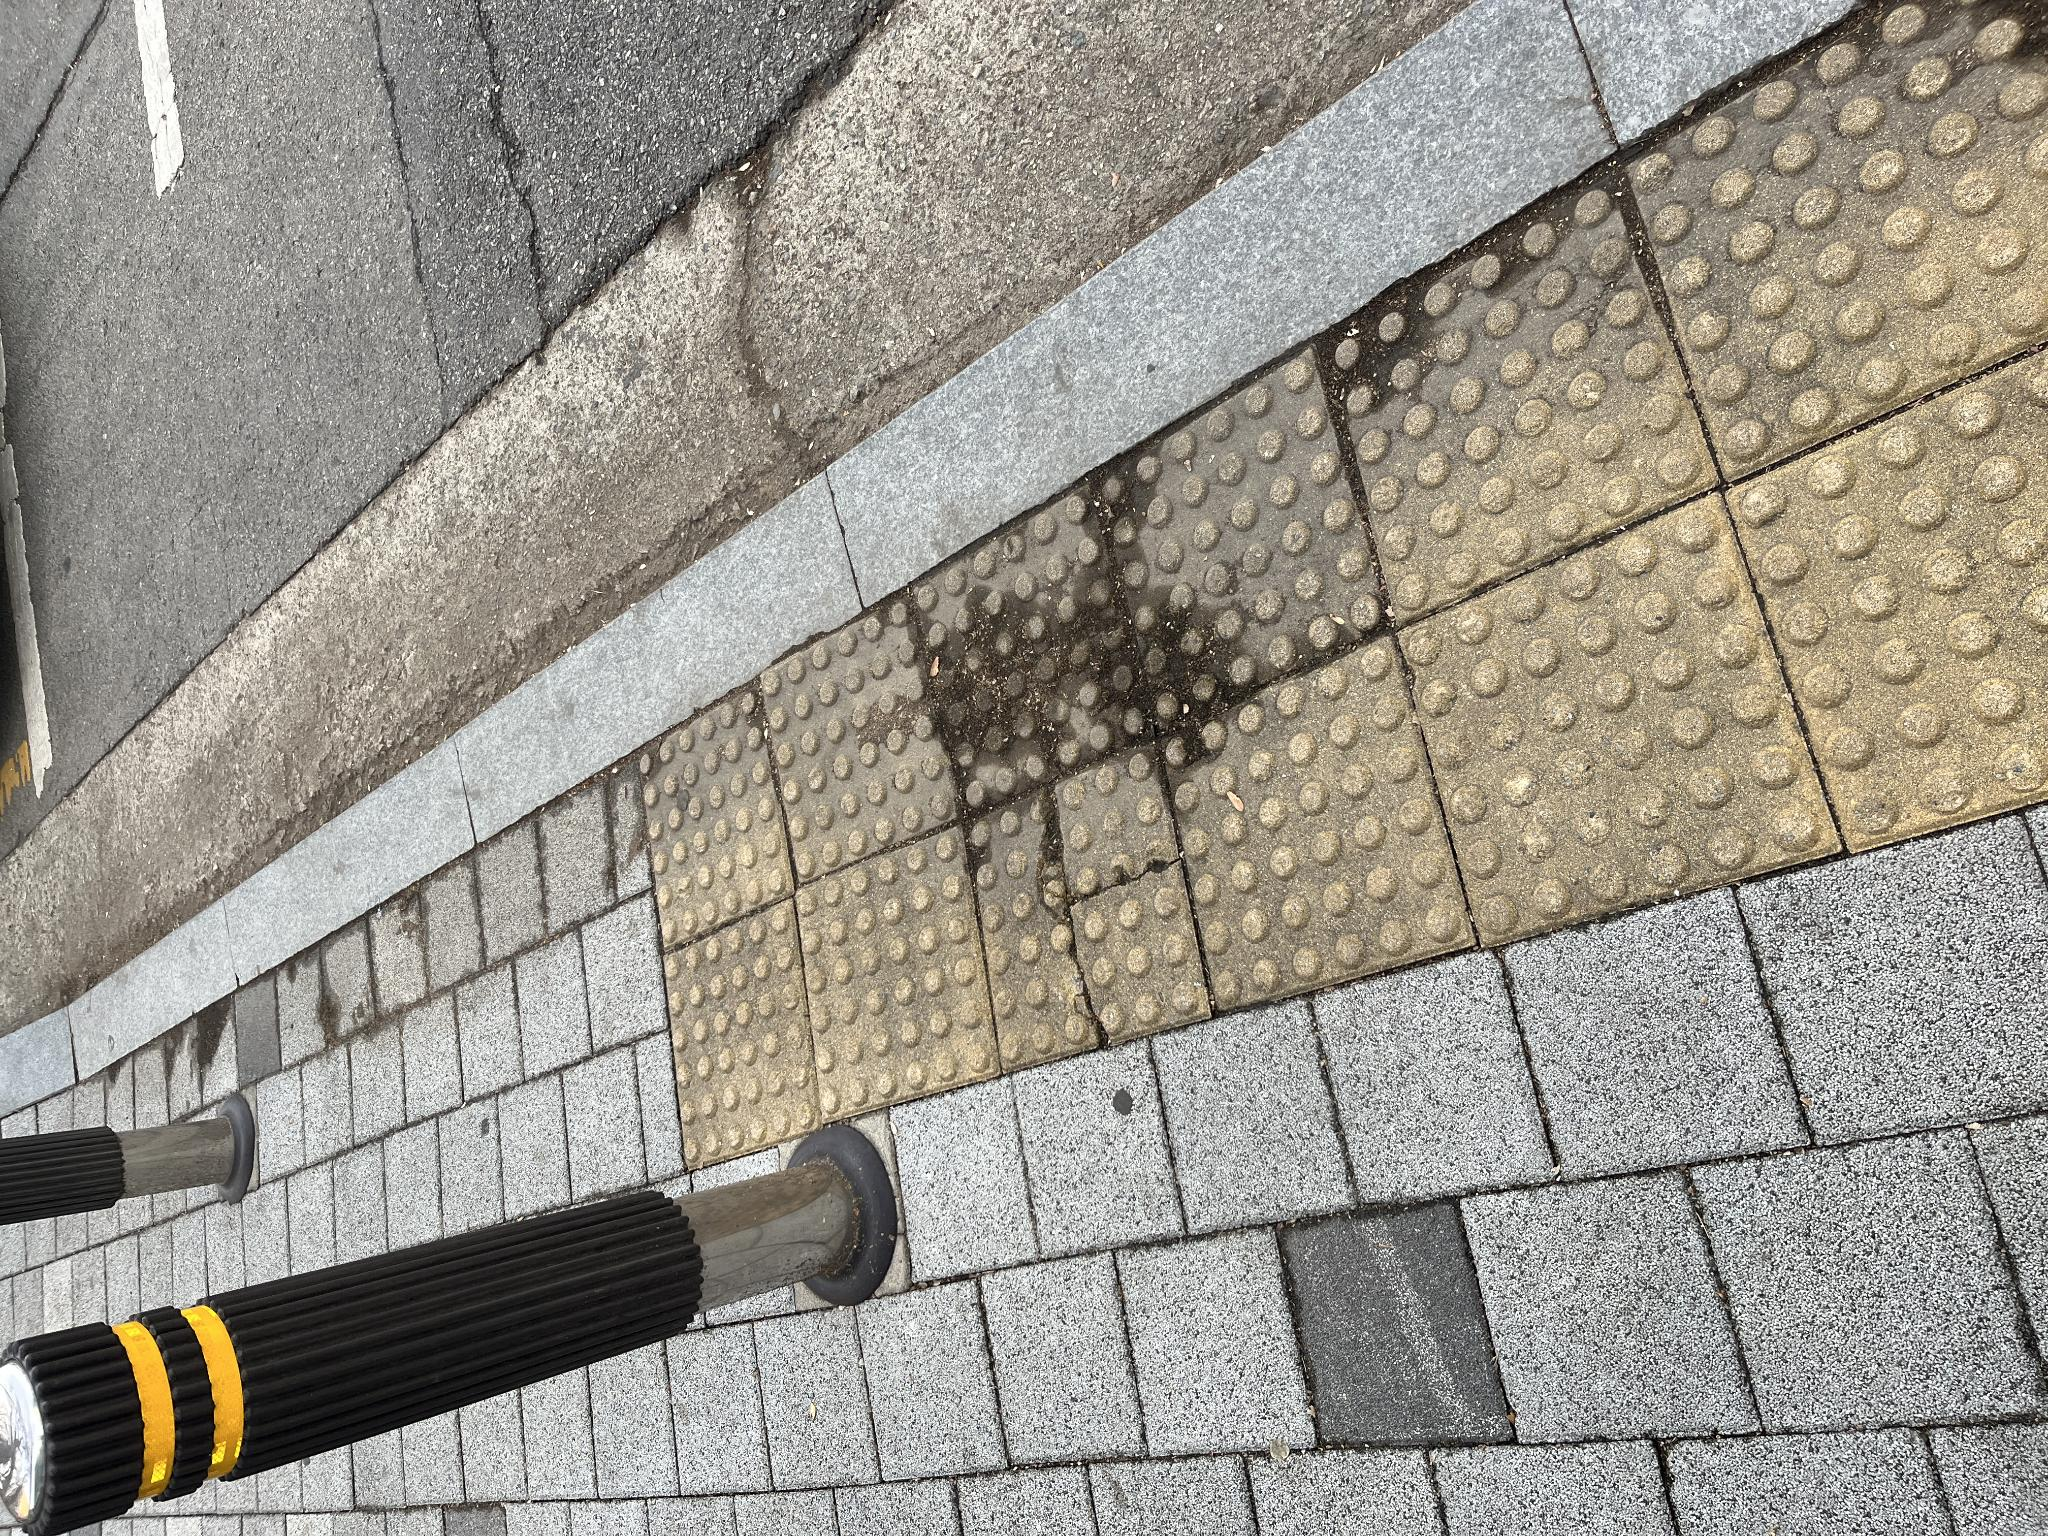Stop block broken: (468, 971, 793, 1205)
Stop block normal: (527, 1163, 897, 1470), (806, 1096, 1187, 1384), (916, 1325, 1321, 1536), (722, 915, 1048, 1150), (416, 795, 710, 997), (653, 762, 942, 955), (590, 1399, 963, 1536)
